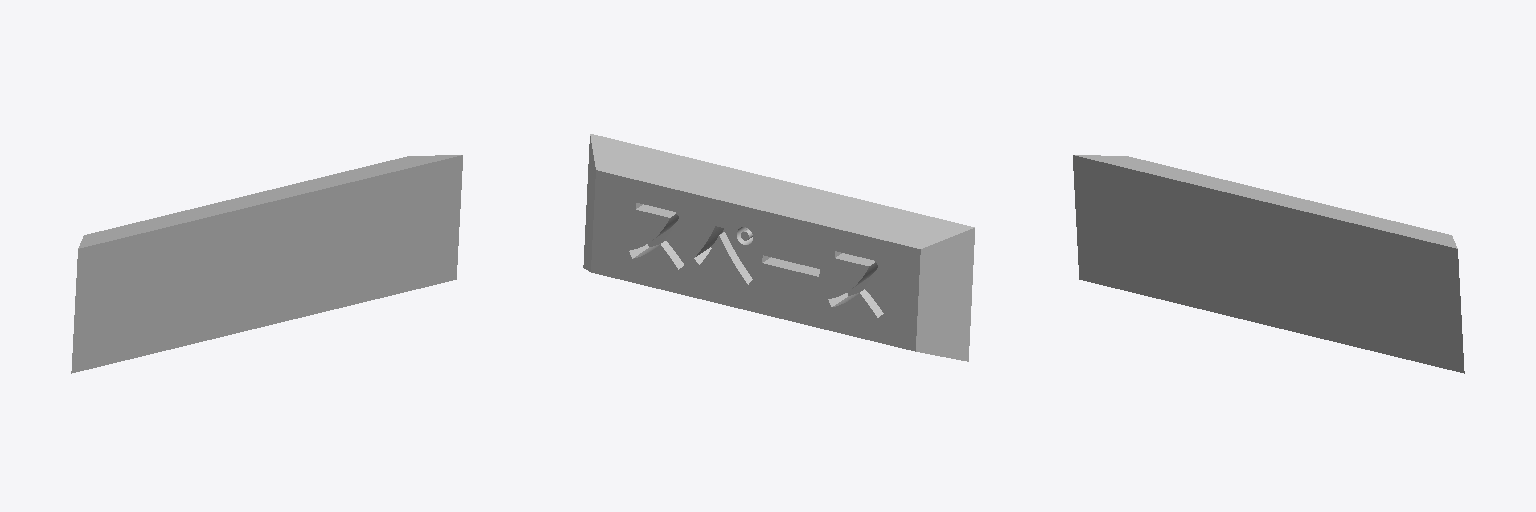
Rendered from Space.obj.
3 renders of one model, left to right at view 1: azimuth 30°, elevation 25°; view 2: azimuth 150°, elevation 25°; view 3: azimuth 330°, elevation 25°, orthographic.
Parts seen in each view (by area): view 1: 立方体; view 2: 立方体; view 3: 立方体.
Boxes of the visible parts, x1,y1,x2,y2 form: 立方体: [71, 155, 462, 373]; 立方体: [583, 134, 974, 361]; 立方体: [1073, 155, 1464, 373].
Bounding box in the file's own units: 11.6 × 3.73 × 1.53.